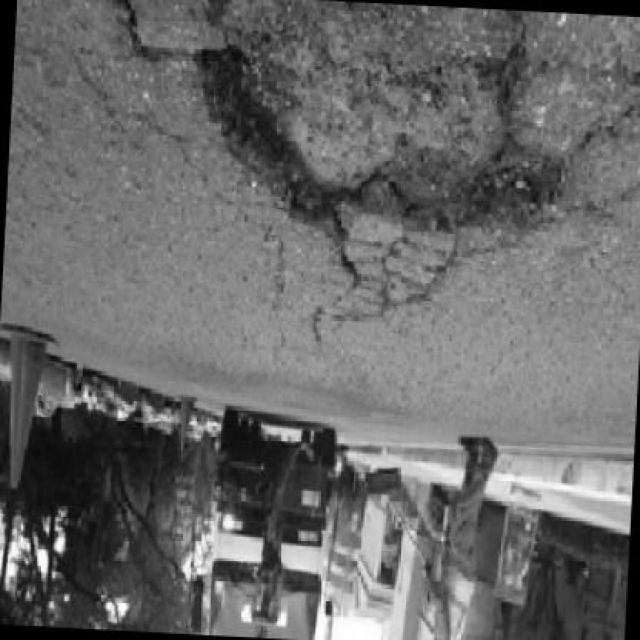pothole: (179, 0, 578, 255)
